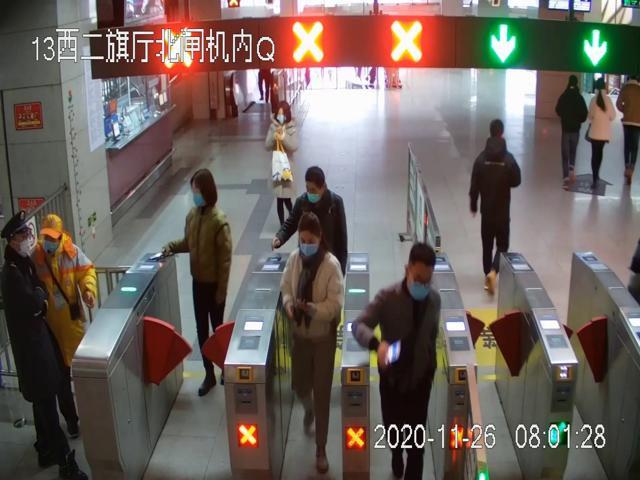person: (1, 208, 95, 480), (353, 242, 448, 478), (279, 215, 342, 471), (33, 215, 96, 437), (181, 171, 236, 397), (468, 113, 522, 294), (275, 164, 349, 272), (265, 100, 301, 232), (556, 73, 589, 191), (588, 77, 618, 195)
